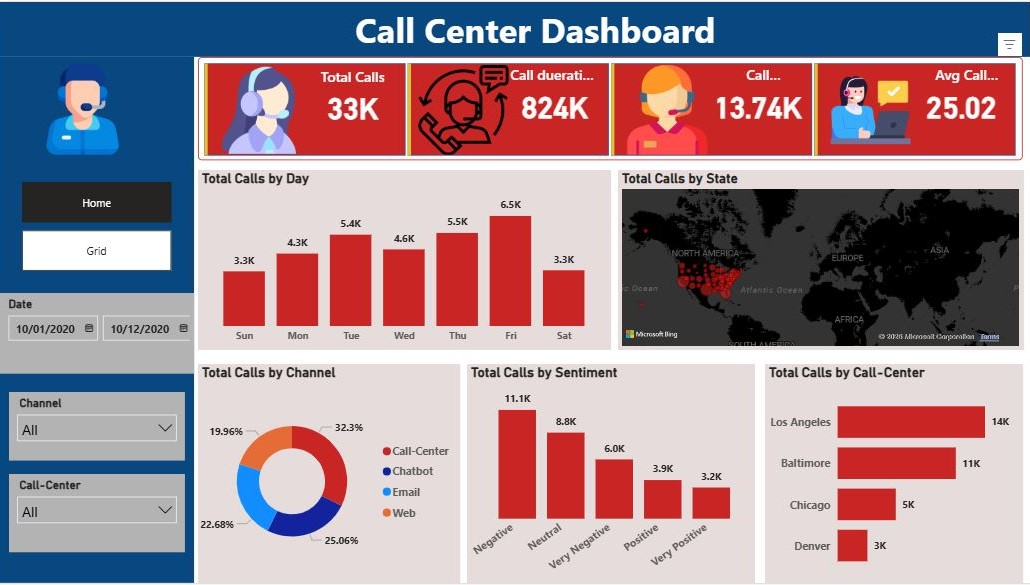

The page's visual inventory and layout, read from the dashboard file:
{"tool":"powerbi","page":{"name":"Home","canvas":[1280,720],"ordinal":0},"visuals":[{"type":"shape","box":[0,0,1280,68.3],"z":0},{"type":"shape","box":[0,68.3,243.2,651.7],"z":1000},{"type":"cardVisual","fields":{"Data":["Call Center_Call Center.Total Calls","Call Center_Call Center.Call dueration (Min)","Call Center_Call Center.Total Call duration(Hrs)","Call Center_Call Center.Avg Call Duration (Min)"]},"box":[248.3,68.3,1021.7,128.3],"z":2000},{"type":"textbox","box":[301.7,0,730,85],"z":3000},{"type":"columnChart","fields":{"Y":["Call Center_Call Center.Total Calls"],"Category":["Date Table.Day"]},"box":[248.3,208.3,511.7,223.3],"z":4000},{"type":"map","fields":{"Category":["Call Center_Call Center.State"],"Size":["Call Center_Call Center.Total Calls"]},"box":[768.3,208.3,501.7,223.3],"z":5000},{"type":"donutChart","fields":{"Category":["Call Center_Call Center.Channel"],"Y":["Call Center_Call Center.Total Calls"]},"box":[248.3,448.3,325,271.7],"z":6000},{"type":"columnChart","fields":{"Category":["Call Center_Call Center.Sentiment"],"Y":["Call Center_Call Center.Total Calls"]},"box":[581.7,448.3,356.7,271.7],"z":7000},{"type":"barChart","fields":{"Category":["Call Center_Call Center.Call-Center"],"Y":["Call Center_Call Center.Total Calls"]},"box":[950,448.3,320,271.7],"z":8000},{"type":"image","box":[43.3,68.3,123.3,128.3],"z":9000},{"type":"pageNavigator","box":[30,223.3,185,111.7],"z":10000},{"type":"slicer","fields":{"Values":["Date Table.Date"]},"box":[0,360,243.3,100],"z":11000},{"type":"slicer","fields":{"Values":["Call Center_Call Center.Channel"]},"box":[13.3,483.3,218.3,85],"z":12000},{"type":"slicer","fields":{"Values":["Call Center_Call Center.Call-Center"]},"box":[13.3,585,218.3,96.7],"z":13000}]}

Visuals, with their boxes in screenshot pixels (x1, y1, x2, y2), scaled from the page's 1280x720 canvas onto the 1030x585 screenshot:
shape: bbox(0, 0, 1029, 55)
shape: bbox(0, 55, 196, 584)
cardVisual - Call Center_Call Center.Total Calls x Call Center_Call Center.Call dueration (Min): bbox(200, 55, 1022, 160)
textbox: bbox(243, 0, 830, 69)
columnChart - Call Center_Call Center.Total Calls x Date Table.Day: bbox(200, 169, 612, 351)
map - Call Center_Call Center.State x Call Center_Call Center.Total Calls: bbox(618, 169, 1022, 351)
donutChart - Call Center_Call Center.Channel x Call Center_Call Center.Total Calls: bbox(200, 364, 461, 584)
columnChart - Call Center_Call Center.Sentiment x Call Center_Call Center.Total Calls: bbox(468, 364, 755, 584)
barChart - Call Center_Call Center.Call-Center x Call Center_Call Center.Total Calls: bbox(764, 364, 1022, 584)
image: bbox(35, 55, 134, 160)
pageNavigator: bbox(24, 181, 173, 272)
slicer - Date Table.Date: bbox(0, 292, 196, 374)
slicer - Call Center_Call Center.Channel: bbox(11, 393, 186, 462)
slicer - Call Center_Call Center.Call-Center: bbox(11, 475, 186, 554)
